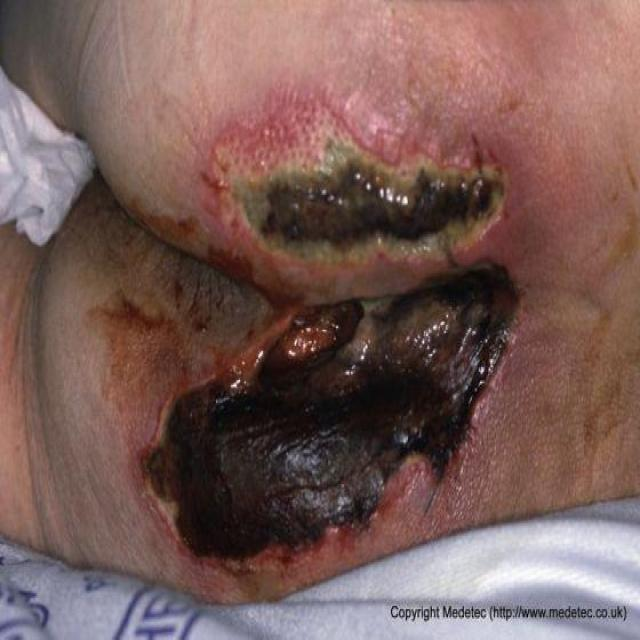Unstageable: (151, 266, 519, 553), (214, 108, 508, 265)
